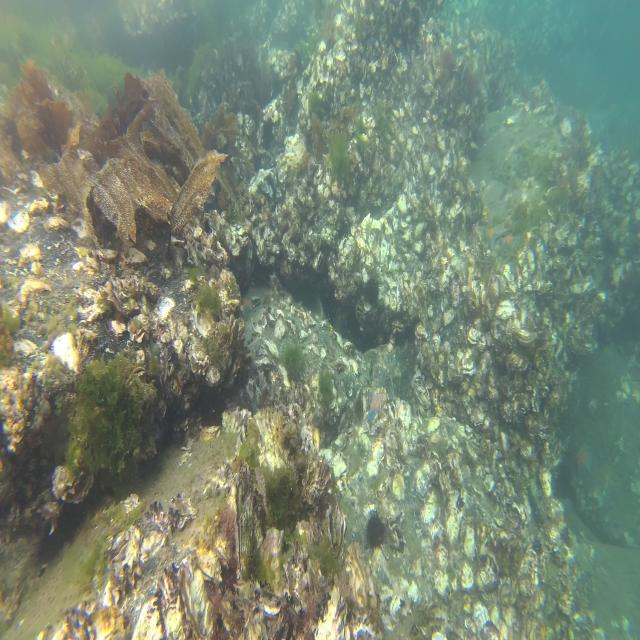echinus: (364, 509, 388, 550), (362, 277, 382, 308)
starfish: (368, 387, 388, 424), (485, 215, 508, 247), (576, 450, 592, 475), (500, 233, 519, 254)
